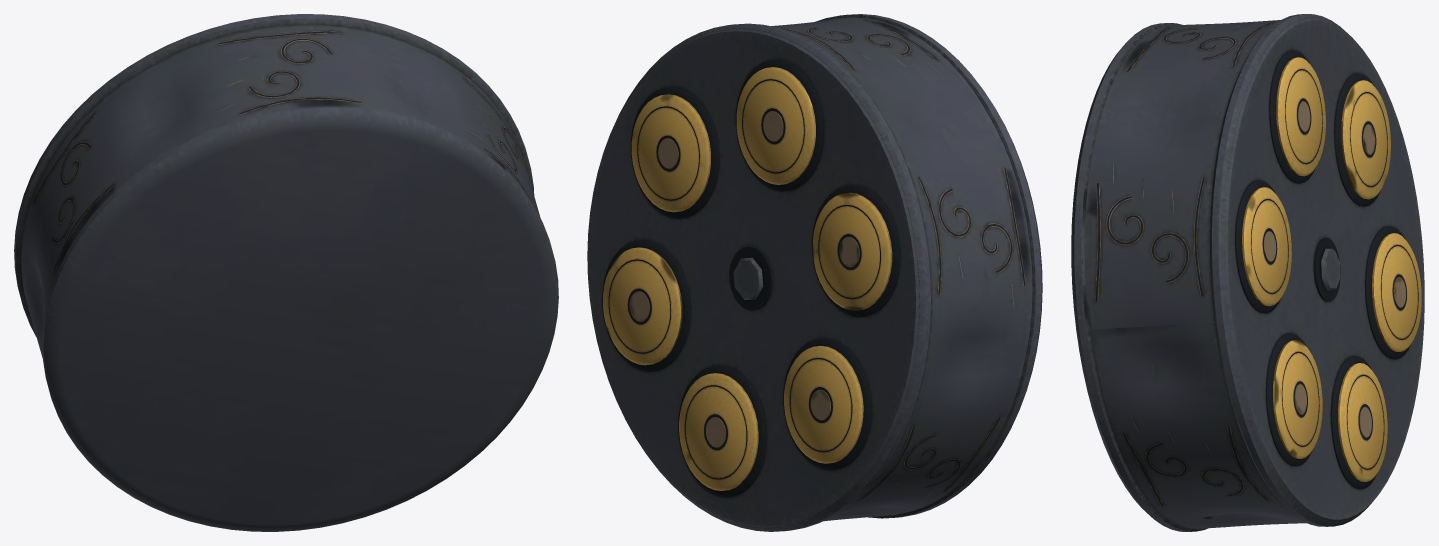
The picture shows the model from 3 angles, left to right: view 1: azimuth 30°, elevation 25°; view 2: azimuth 150°, elevation 25°; view 3: azimuth 270°, elevation 25°; orthographic projection. The views are drawn at different scales.
Parts seen in each view (by area): view 1: Scratched_gunmetal, Warm_steel_reflections, Engraved_steel_shadows; view 2: Scratched_gunmetal, Polished_brass, Engraved_steel_shadows, Warm_steel_reflections; view 3: Scratched_gunmetal, Polished_brass, Engraved_steel_shadows, Warm_steel_reflections.
Boxes of the visible parts, box(x1,y1,x2,y2) form: Scratched_gunmetal: box(14, 14, 558, 531); Warm_steel_reflections: box(33, 31, 533, 281); Engraved_steel_shadows: box(33, 31, 531, 274); Scratched_gunmetal: box(587, 14, 1042, 531); Polished_brass: box(603, 67, 892, 490); Engraved_steel_shadows: box(602, 15, 1034, 517); Warm_steel_reflections: box(604, 19, 1025, 528); Scratched_gunmetal: box(1071, 14, 1424, 531); Polished_brass: box(1242, 57, 1421, 481); Engraved_steel_shadows: box(1082, 21, 1418, 530); Warm_steel_reflections: box(1095, 17, 1406, 522).
Size of the model in its own units: 0.8149 by 0.8121 by 0.5387.
4 materials, 4 textured.
